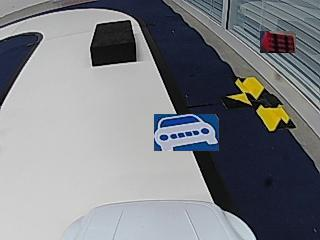block: (91, 20, 136, 66)
